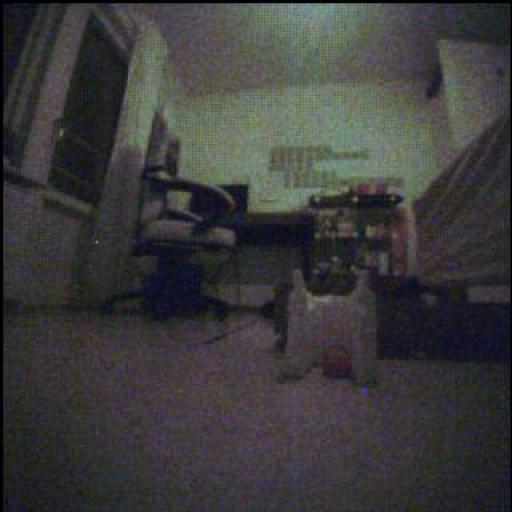basket: (323, 347, 353, 379)
